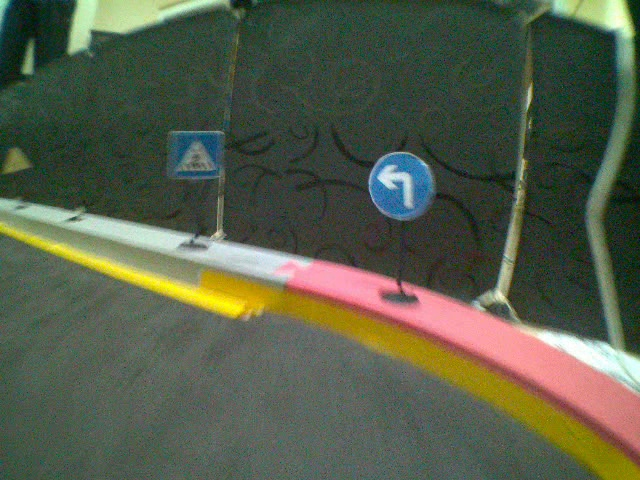crossing: (168, 130, 222, 178)
turn: (368, 149, 438, 222)
